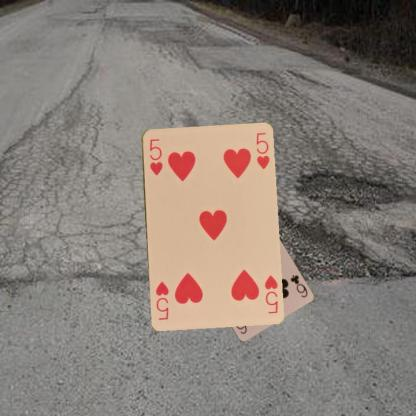5h: (261, 272, 279, 314), (146, 136, 164, 176)
6c: (288, 272, 308, 299)
